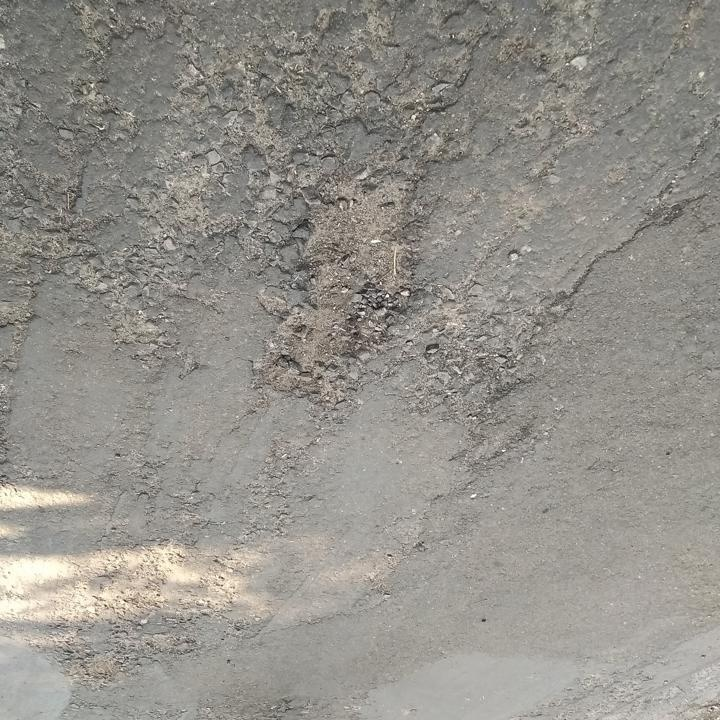pothole: (243, 167, 426, 408), (418, 317, 527, 412)
